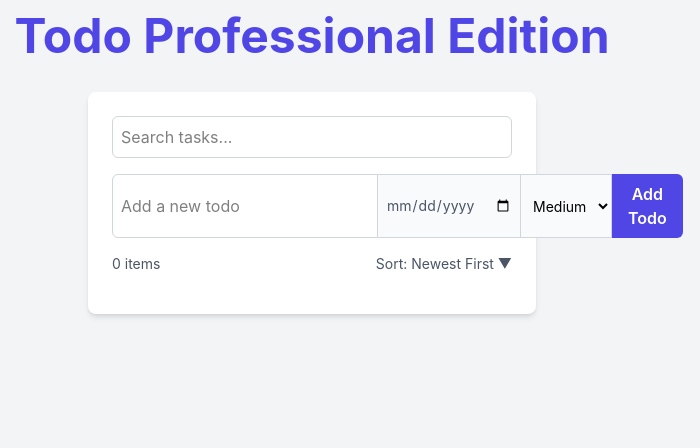
Test case: App › supports task priorities (TC-010)
The width and height of the screenshot is (700, 448).
# Add high priority task
Type "High Priority Task" into the field with placeholder "Add a new todo". click: {"x": 245, "y": 206}
box: [112,174,378,238]
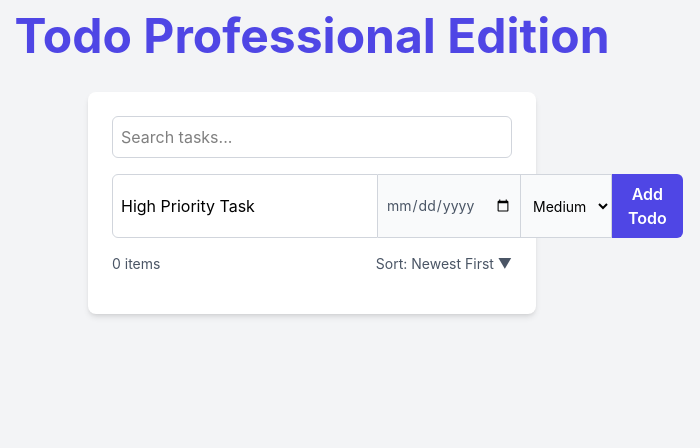
Select "High" in the dropdown. click: {"x": 566, "y": 206}
box: [521,174,612,238]
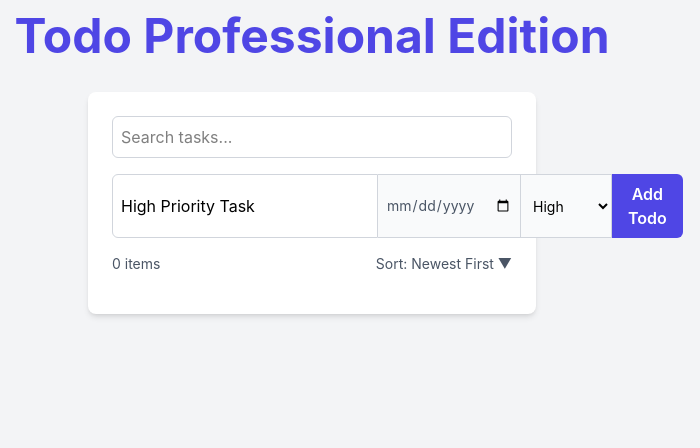
Click the button "Add Todo". click: {"x": 647, "y": 206}
box: [612,174,683,238]
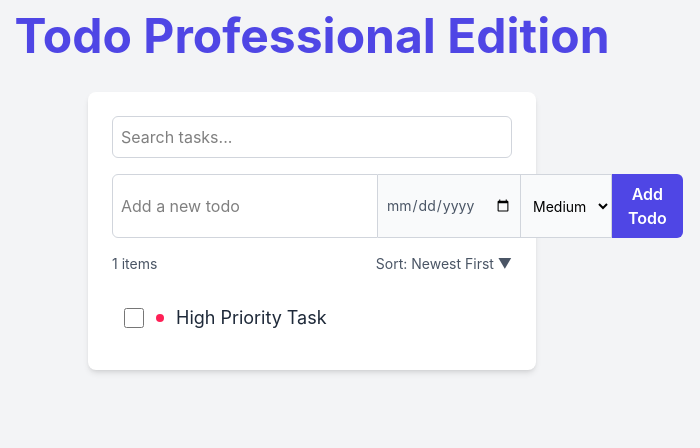
Expected: the text "High Priority Task" is shown, [176,304,327,332]
# Add low priority task
Type "Low Priority Task" into the field with placeholder "Add a new todo". click: {"x": 245, "y": 206}
box: [112,174,378,238]
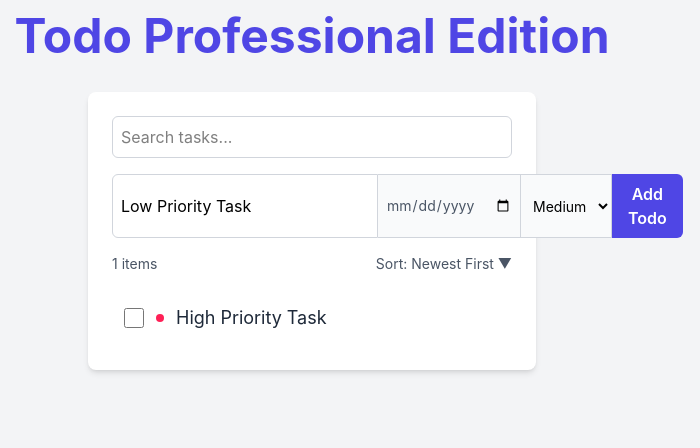
Select "Low" in the dropdown. click: {"x": 566, "y": 206}
box: [521,174,612,238]
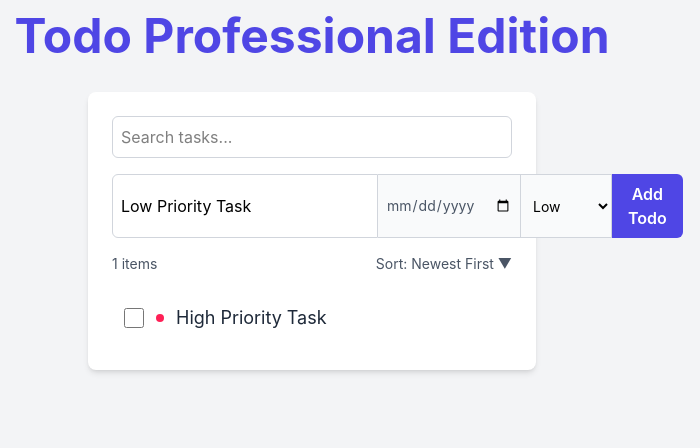
Click the button "Add Todo". click: {"x": 647, "y": 206}
box: [612,174,683,238]
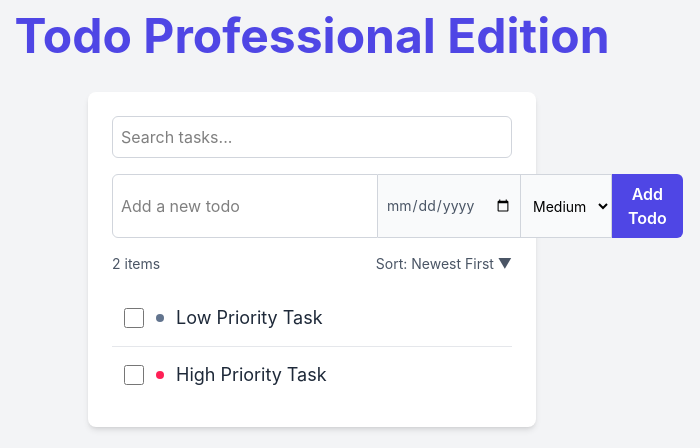
Expected: the element titled "Priority: high" is shown, [156,371,164,379]
Expected: the text "Low Priority Task" is shown, [176,304,323,332]
Expected: the element titled "Priority: low" is shown, [156,314,164,322]
